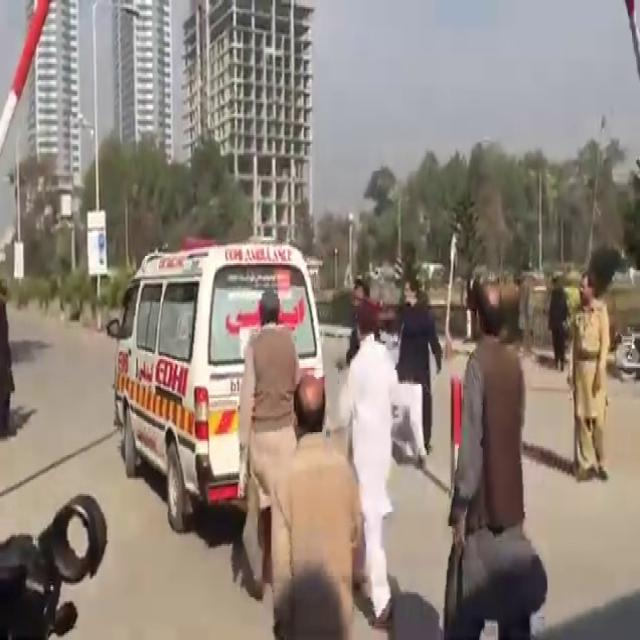ambulance: (111, 222, 330, 495)
